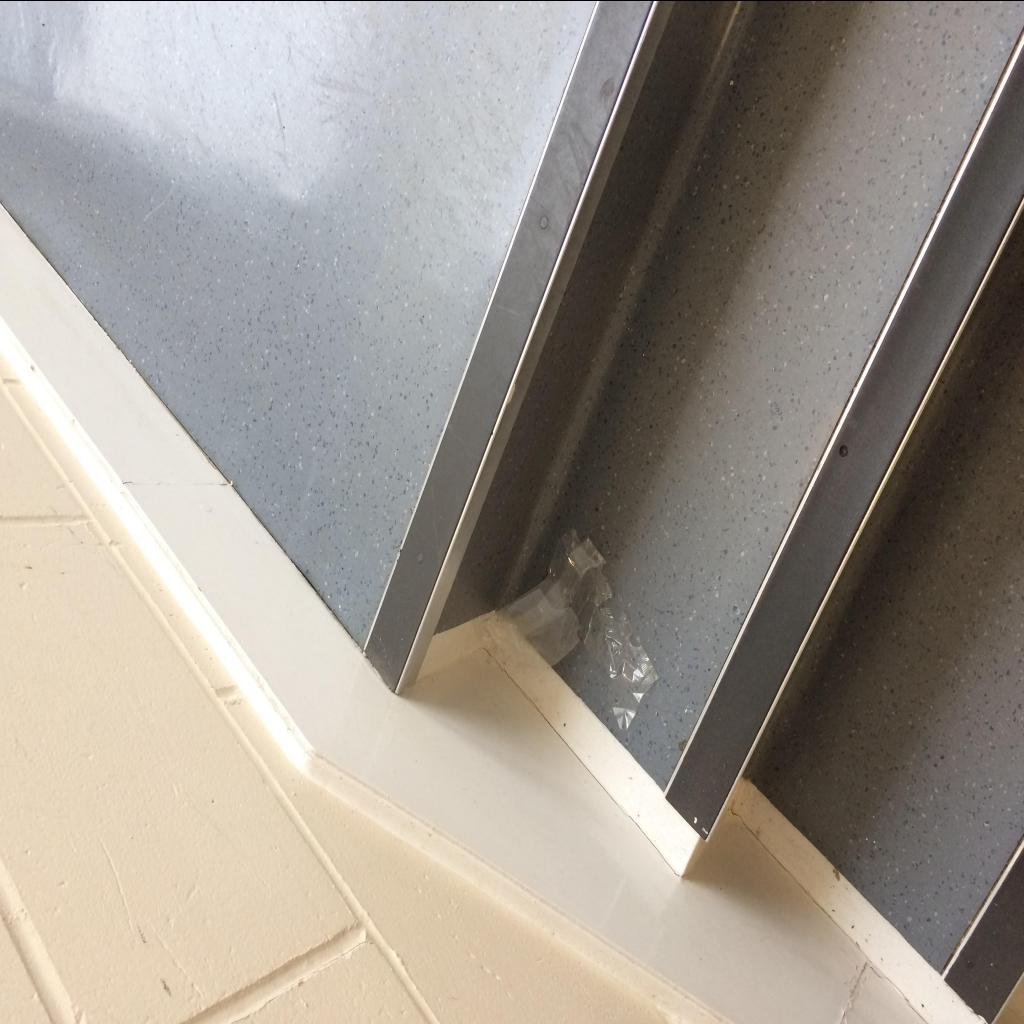Plastic film: (483, 528, 659, 730)
